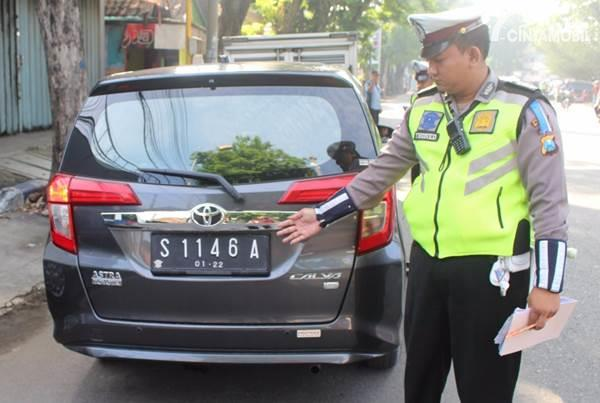plate: (150, 232, 270, 276)
